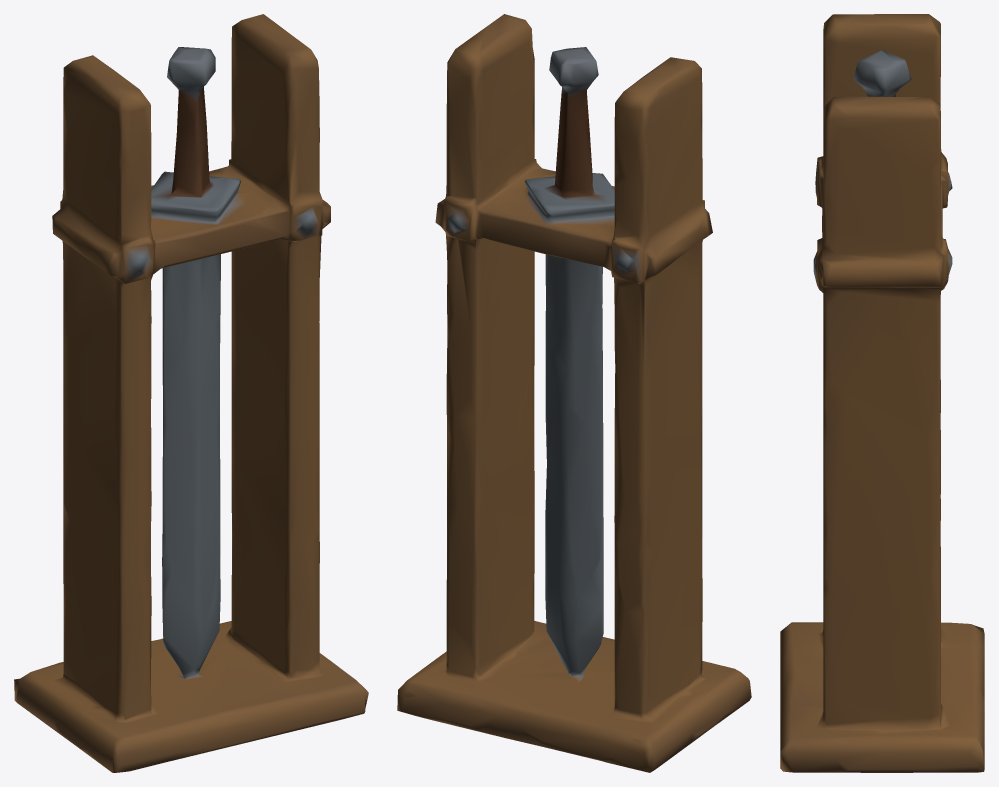
File: gen3d-sword-rack-lod0.glb
3 views of the same model, side by side, from view 1: azimuth 30°, elevation 25°; view 2: azimuth 150°, elevation 25°; view 3: azimuth 270°, elevation 25° (orthographic).
Parts seen in each view (by area): view 1: part_0; view 2: part_0; view 3: part_0.
Part boxes in pixels (box(x1,y1,x2,y2)): part_0: box(14, 14, 368, 772); part_0: box(397, 14, 751, 772); part_0: box(780, 14, 984, 772).
Size of the model in its own units: 0.4088 by 1 by 0.2843.
